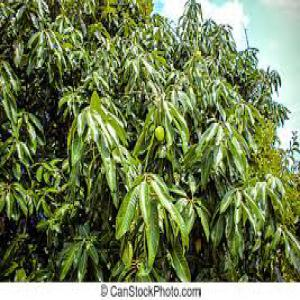Tree: (0, 0, 299, 272)
